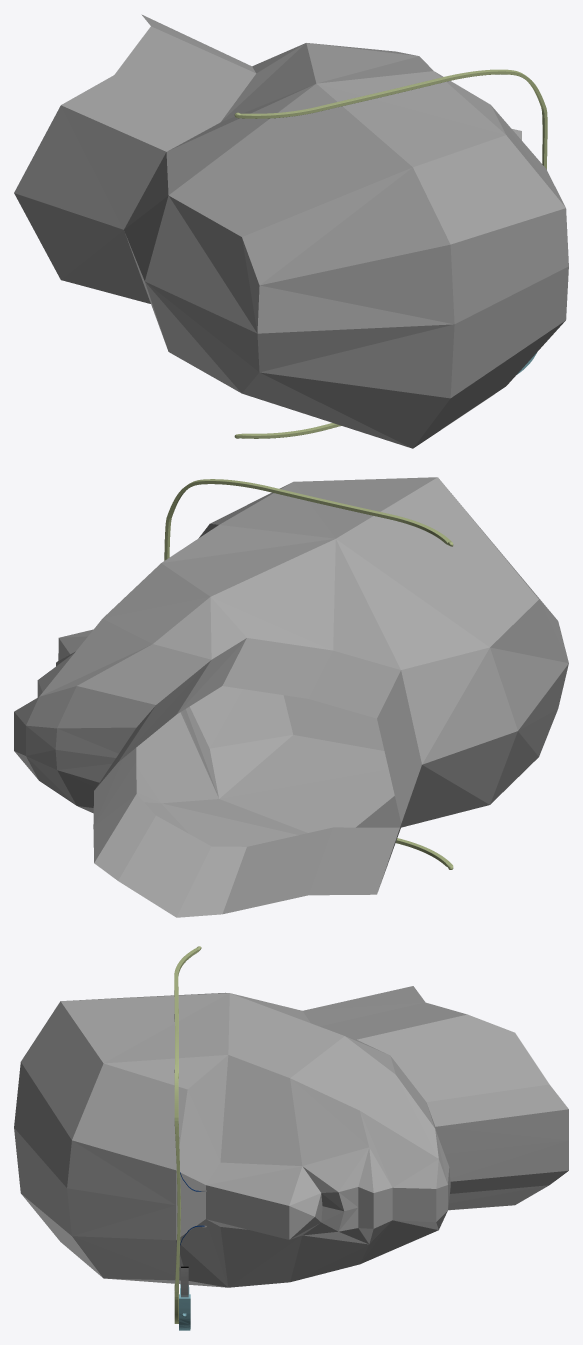
File: google-glass.obj
The picture shows the model from 3 angles, top to bottom: view 1: azimuth 30°, elevation 25°; view 2: azimuth 150°, elevation 25°; view 3: azimuth 270°, elevation 25°; orthographic projection. The views are drawn at different scales.
Parts seen in each view (by area): view 1: Plane.011_Plane.022, Gstl_links_01; view 2: Plane.011_Plane.022, Gstl_links_01; view 3: Plane.011_Plane.022, Gstl_links_01.
Boxes of the visible parts, left/top/right/bottom form: Plane.011_Plane.022: left=14, top=14, right=568, bottom=448; Gstl_links_01: left=234, top=69, right=547, bottom=438; Plane.011_Plane.022: left=14, top=477, right=568, bottom=917; Gstl_links_01: left=164, top=479, right=453, bottom=869; Plane.011_Plane.022: left=14, top=986, right=568, bottom=1287; Gstl_links_01: left=174, top=946, right=201, bottom=1323.
Bounding box in the file's own units: 5.85 × 4.31 × 7.75.
